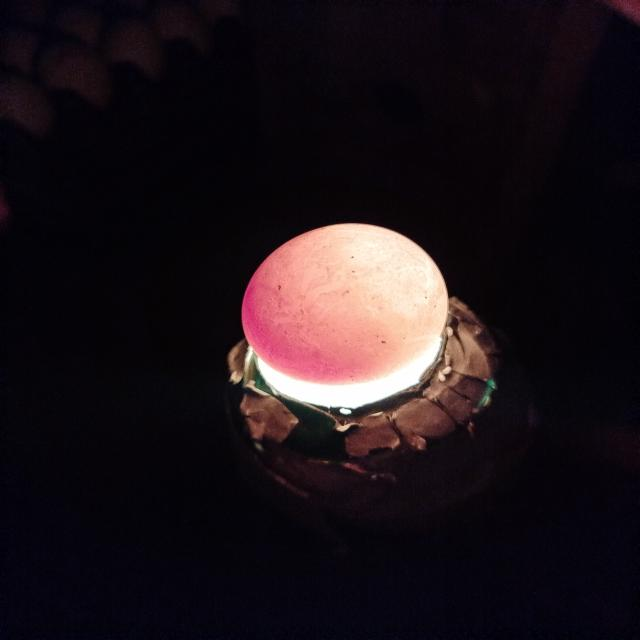Gema Quebrada: (242, 276, 350, 380)
